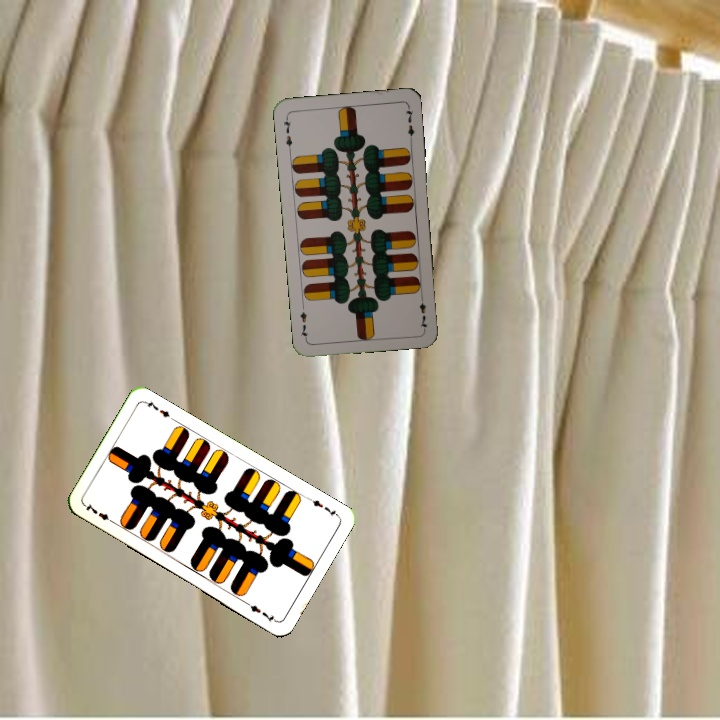E7: (304, 493, 341, 520), (81, 500, 117, 527), (280, 113, 295, 153), (415, 291, 429, 331)
